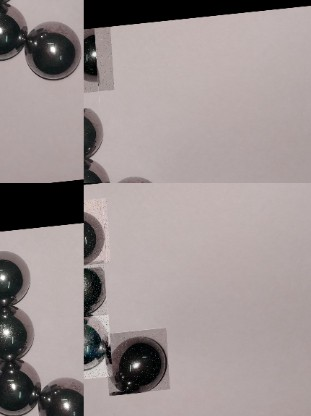ironball: (102, 330, 166, 396), (19, 16, 80, 83), (0, 359, 43, 415), (0, 304, 40, 364), (0, 243, 32, 304), (37, 374, 85, 414), (84, 27, 112, 95), (84, 199, 108, 268), (84, 315, 109, 381), (0, 0, 24, 66), (84, 262, 105, 319)
